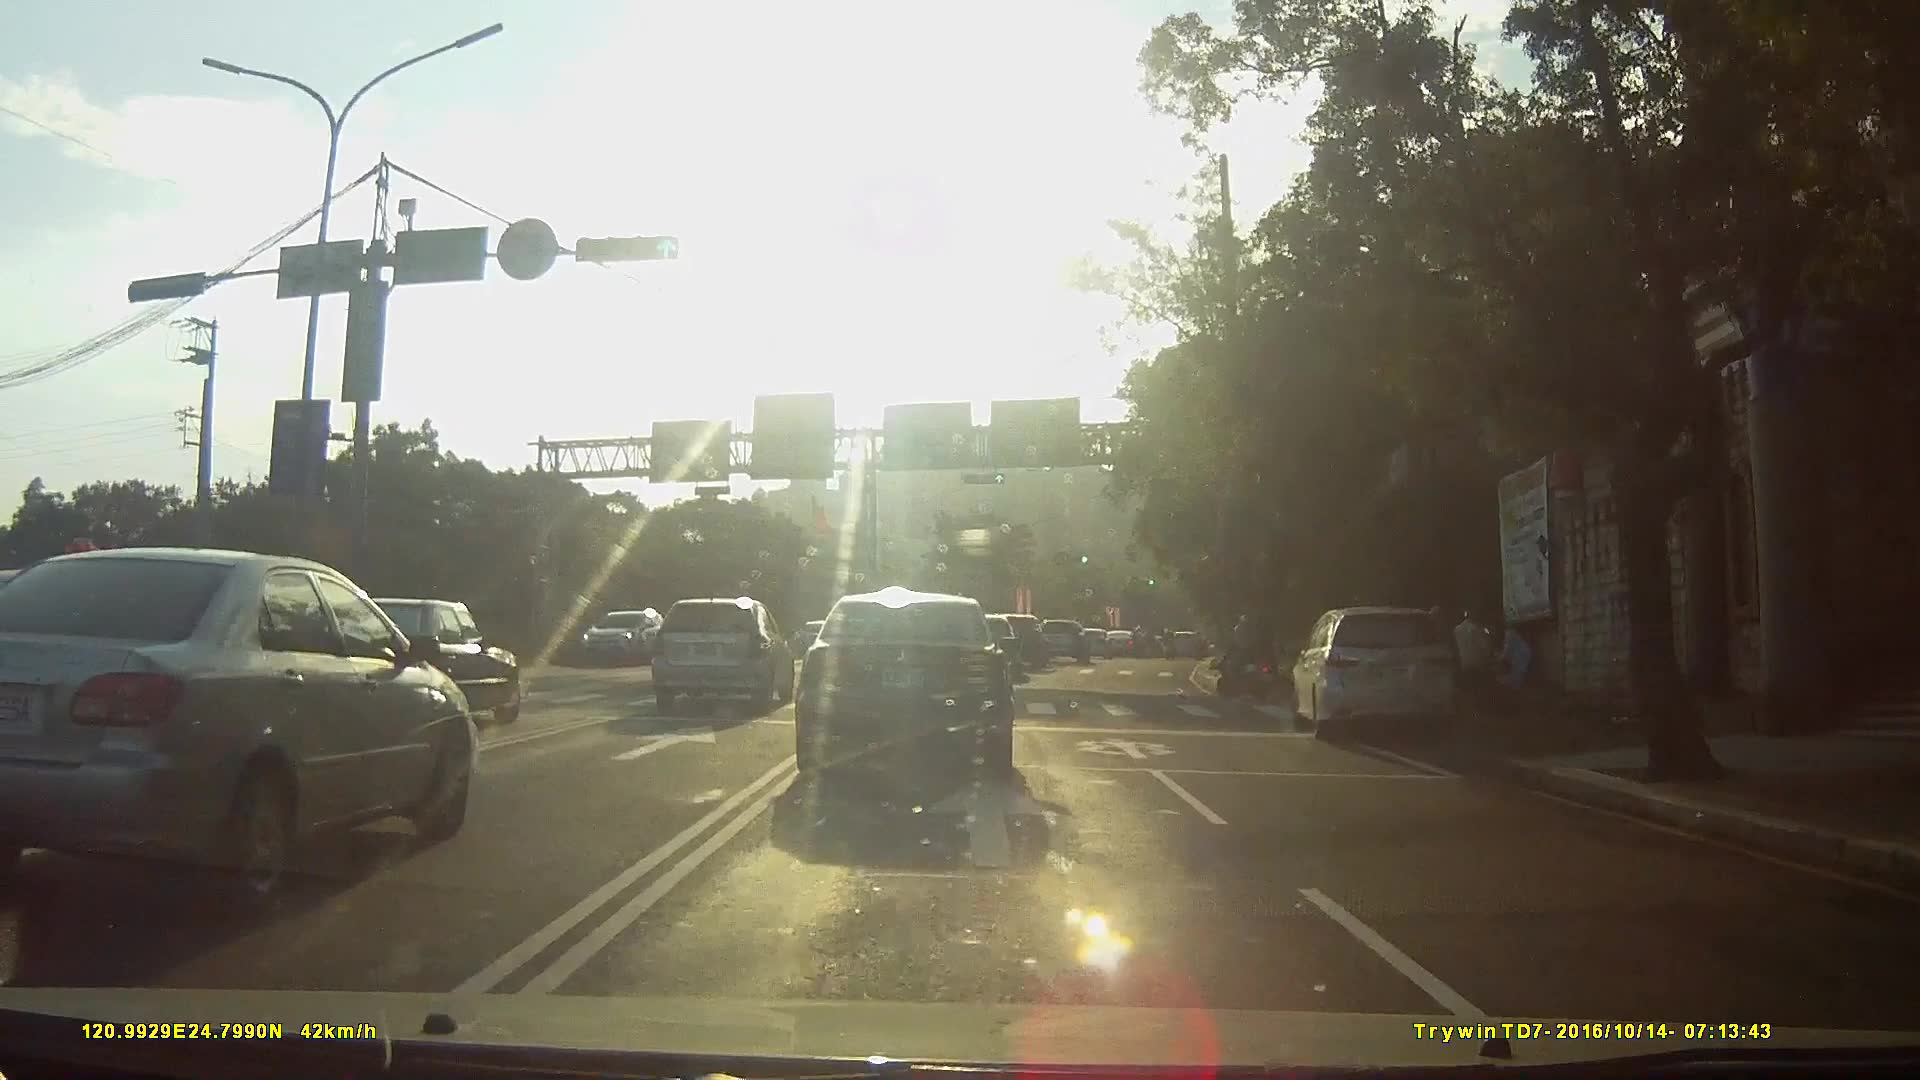pedestrian: (1458, 606, 1492, 721), (1500, 624, 1536, 695)
rider: (1218, 609, 1277, 695)
vehicle: (0, 549, 483, 912), (789, 590, 1035, 800), (312, 595, 533, 731), (1287, 600, 1477, 746), (652, 597, 799, 717), (576, 604, 670, 668), (996, 609, 1058, 667), (1041, 617, 1098, 663), (1079, 624, 1118, 656), (1111, 628, 1141, 656)
